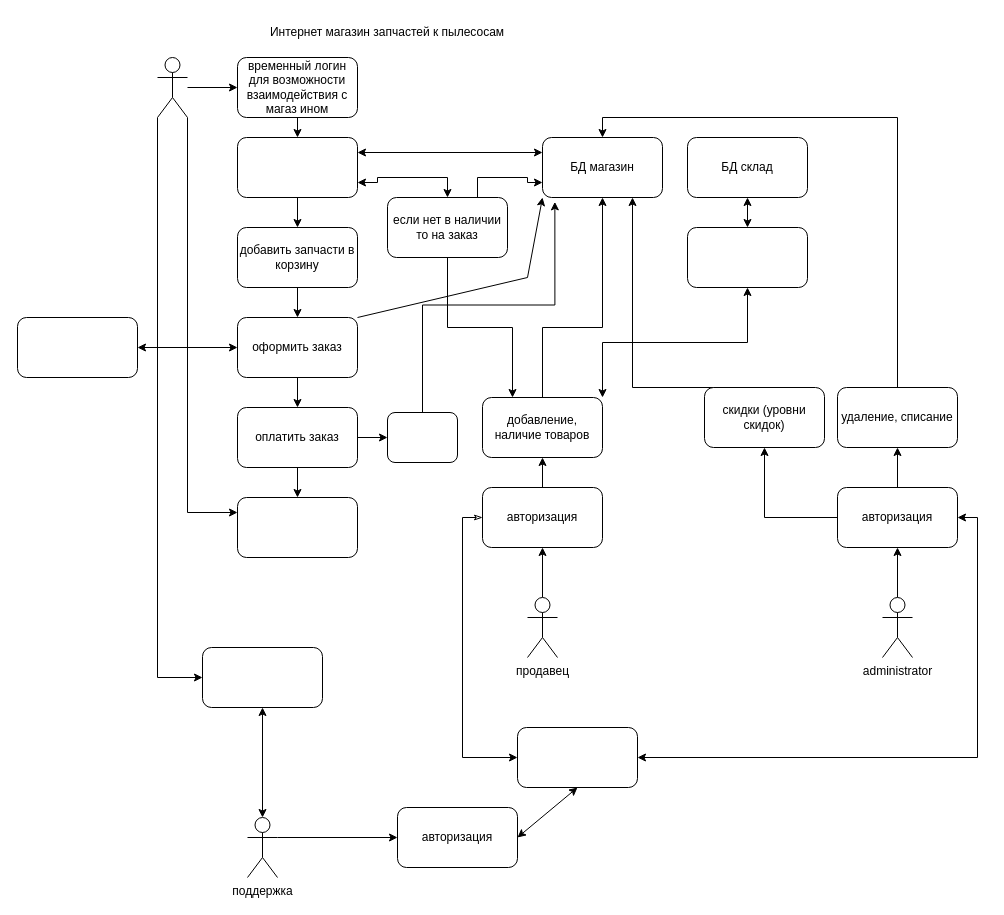
Image size: 1004x915. Some labels were removed from this diagram. The box of each missing label's shape, as (x1, y1, x2, y2) in pixels:
Client: (156, 56, 188, 118)
доставка: (16, 316, 138, 378)
заявка на наличие: (686, 226, 808, 288)
найти запчасти: (236, 136, 358, 198)
обратная связь: (202, 646, 322, 708)
отследить статус заказа: (236, 496, 358, 558)
платежный шлюз: (386, 412, 458, 462)
служебный чат: (516, 726, 638, 788)
